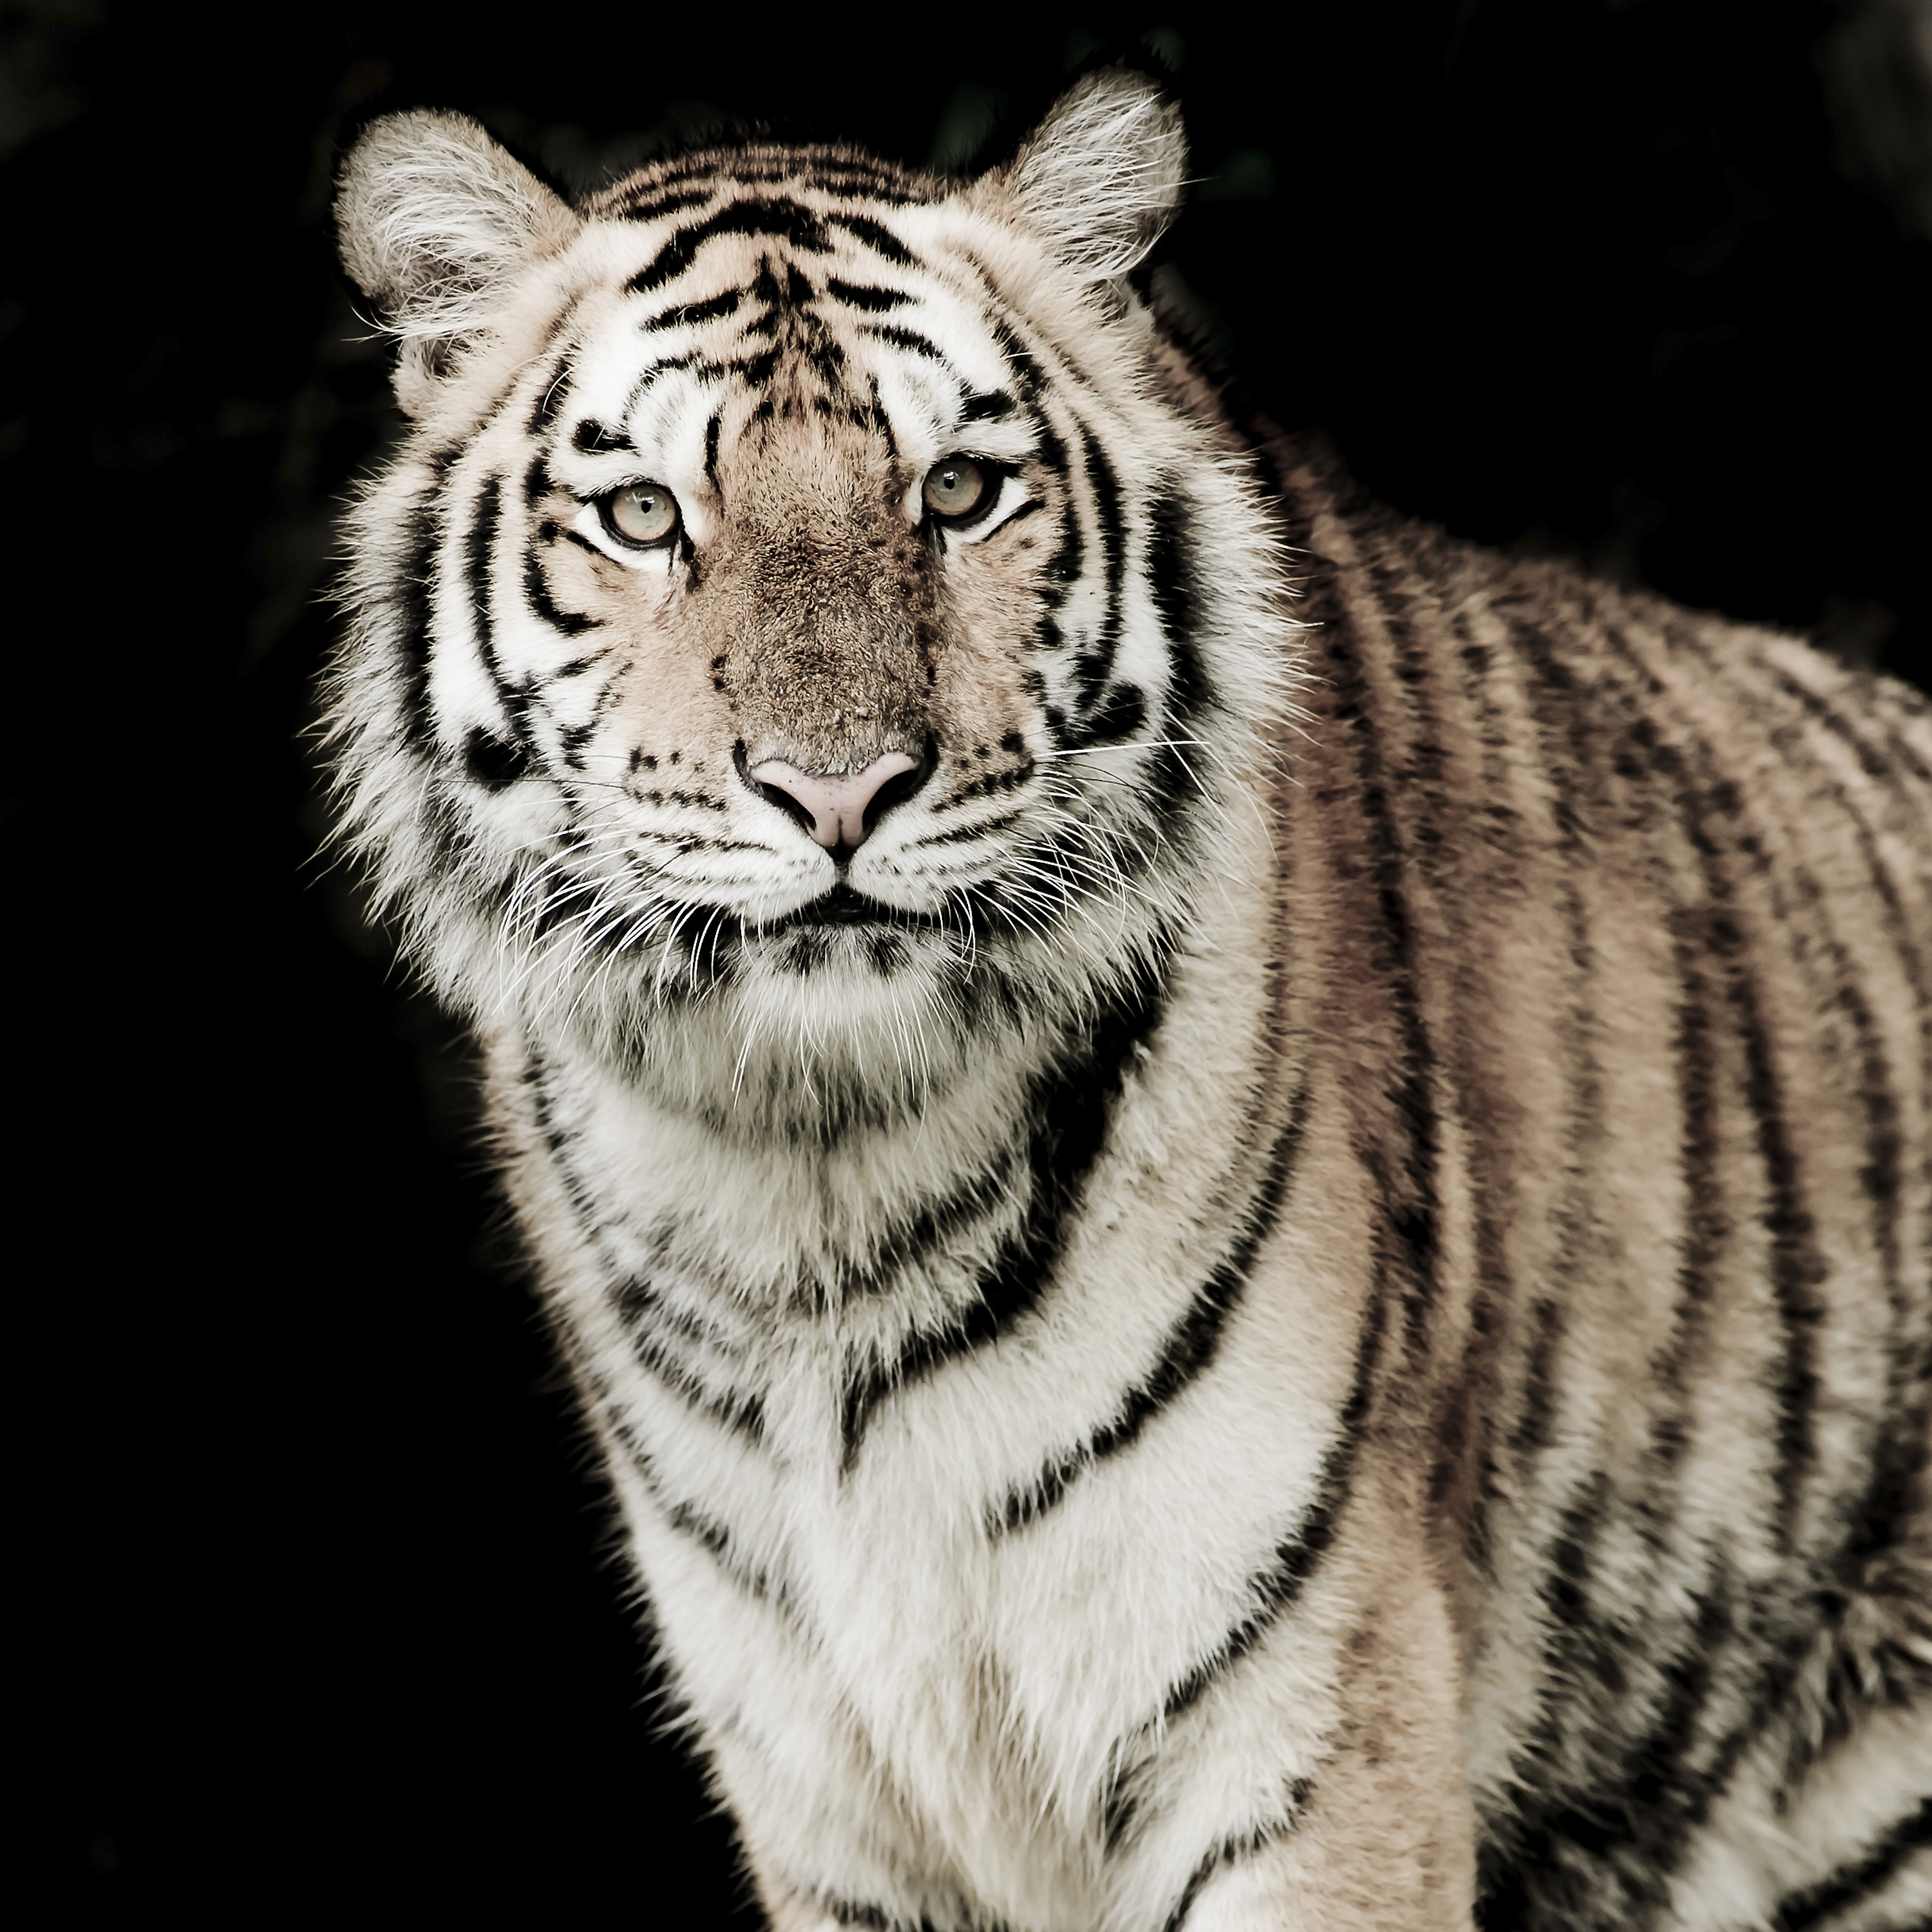tiger: (295, 106, 1824, 1656)
